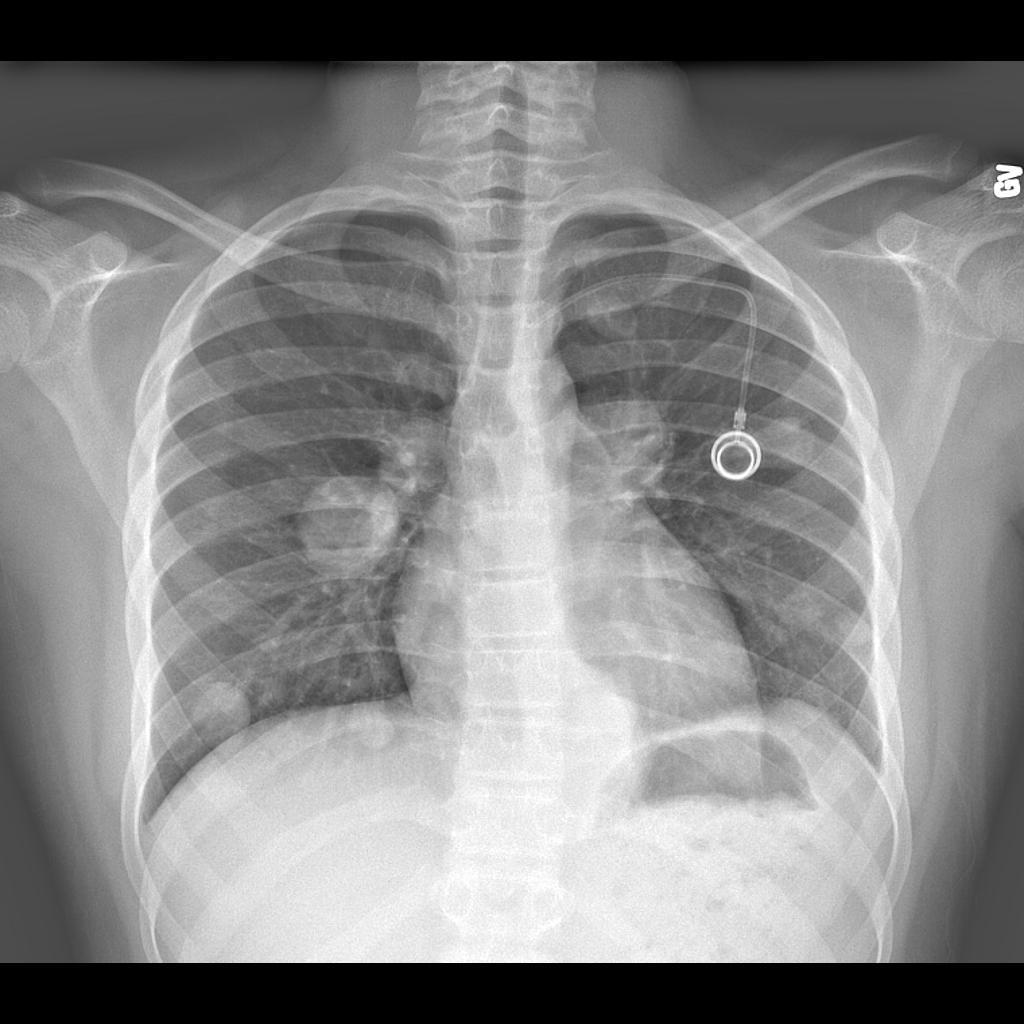Nodule: (295, 465, 396, 586), (191, 679, 257, 753), (351, 707, 408, 761)
